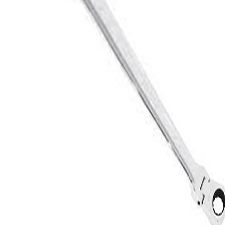Wrench: (77, 1, 225, 225)
